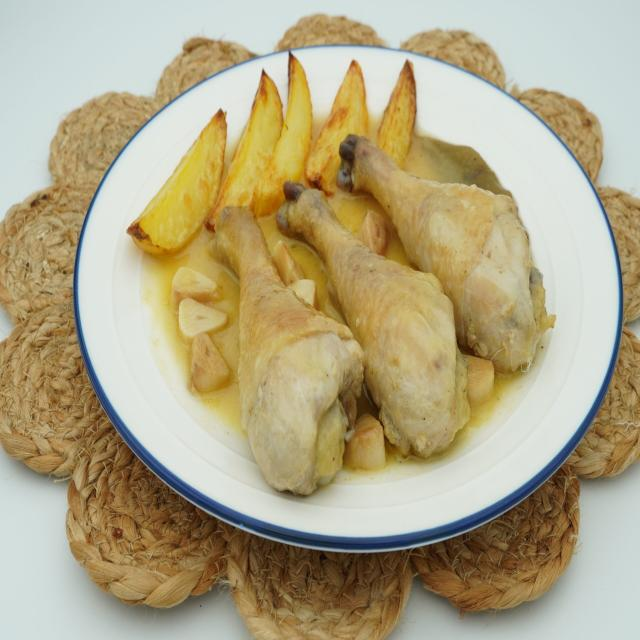papa: (120, 50, 422, 265)
pollo: (272, 175, 478, 470), (207, 201, 375, 520), (338, 131, 548, 380)
